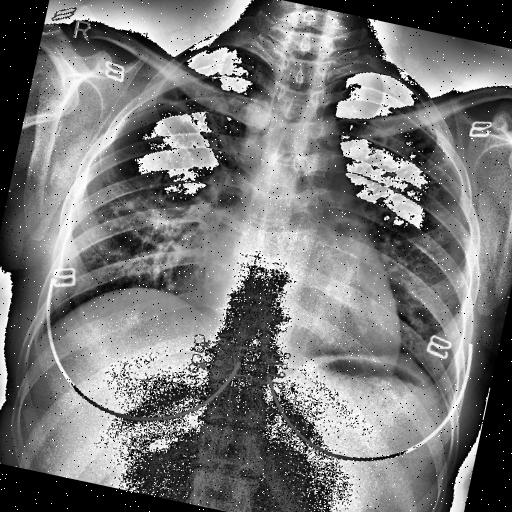13- Pulmonary fibrosis: (357, 127, 487, 275), (148, 44, 268, 178), (326, 118, 456, 221), (135, 89, 246, 165), (140, 88, 236, 166), (224, 43, 268, 87), (414, 154, 450, 187)
6- Infiltration: (317, 122, 474, 292), (138, 24, 279, 176)
8- Nodule-Mass: (378, 135, 412, 171), (348, 144, 365, 160), (426, 182, 440, 198), (404, 209, 416, 221)
